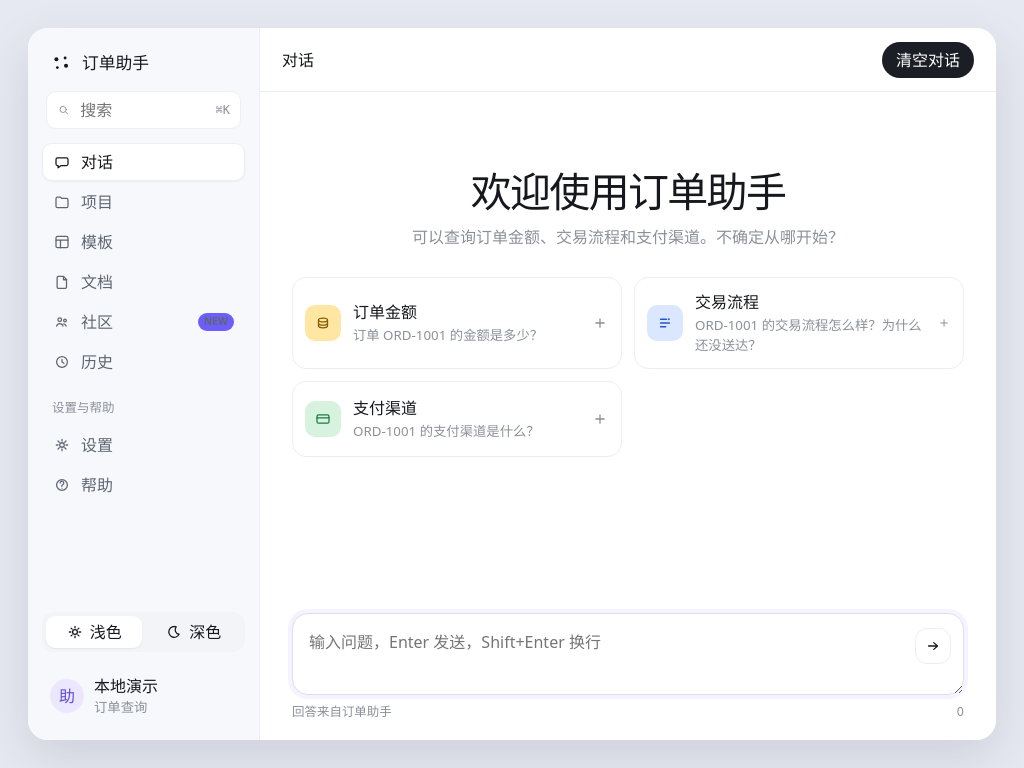
it: 订单助手对话 › 发送输入框中的消息并展示回复
The width and height of the screenshot is (1024, 768).
Type "查一下订单 ORD-1001" into the text box named "消息" at coordinates (628, 654), box [293,614,963,694]
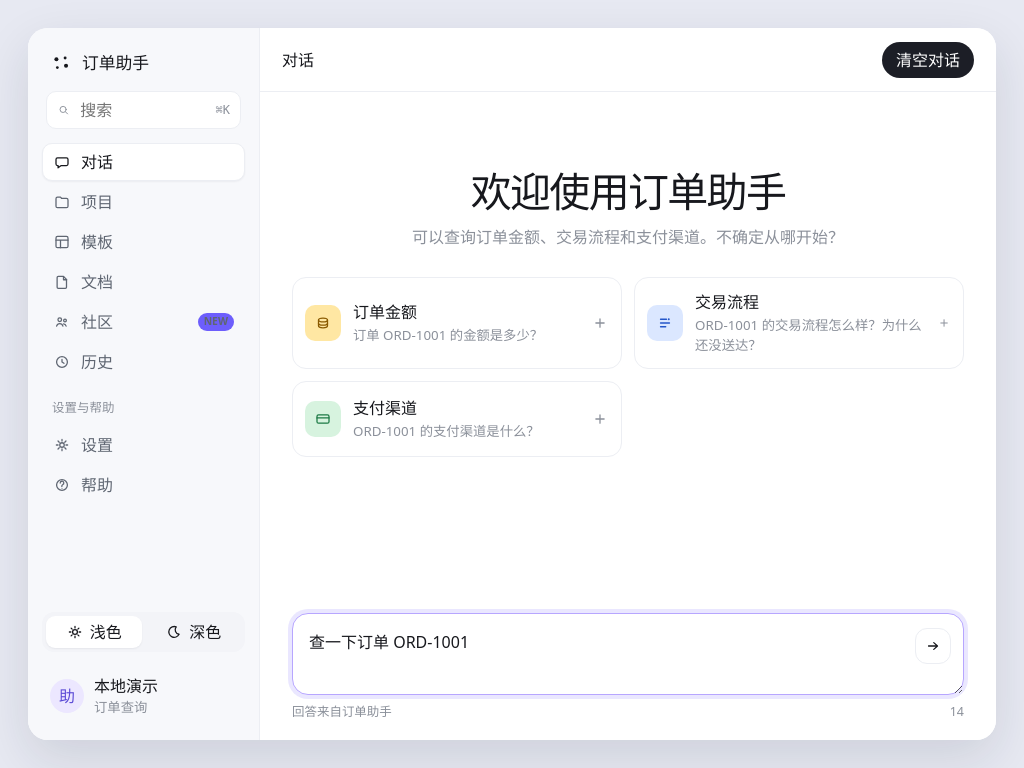
Click the button named "发送" at coordinates (933, 646), box [915,628,951,664]
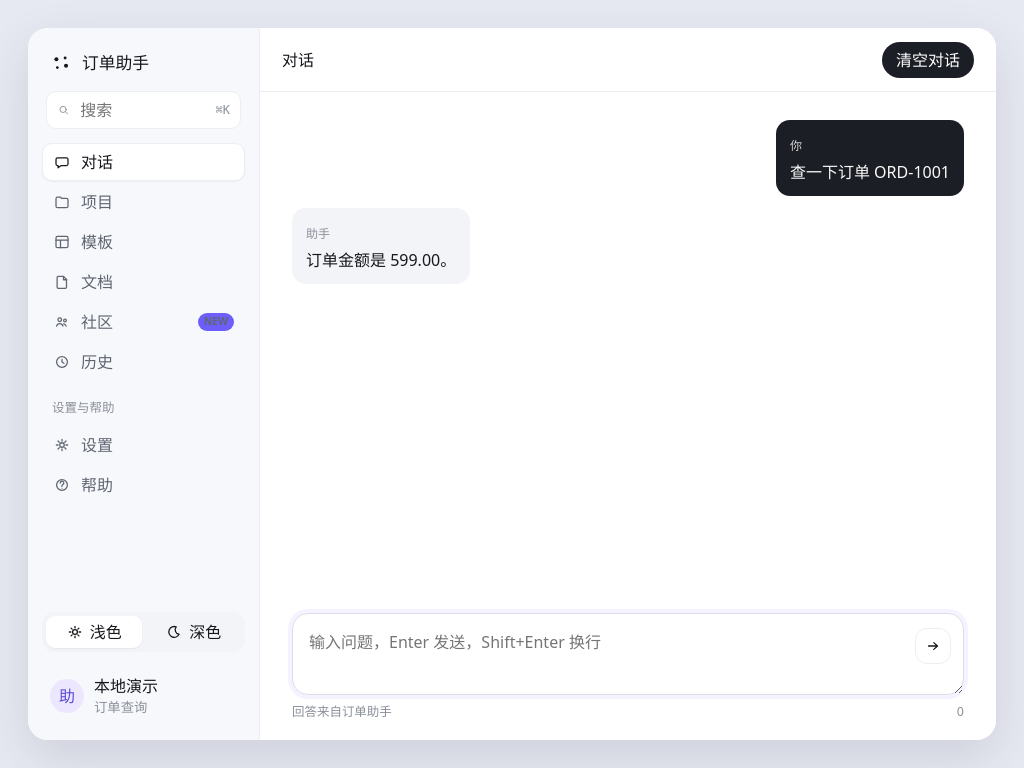
Expected: the text "订单金额是 599.00。" is shown, [306,248,456,272]
